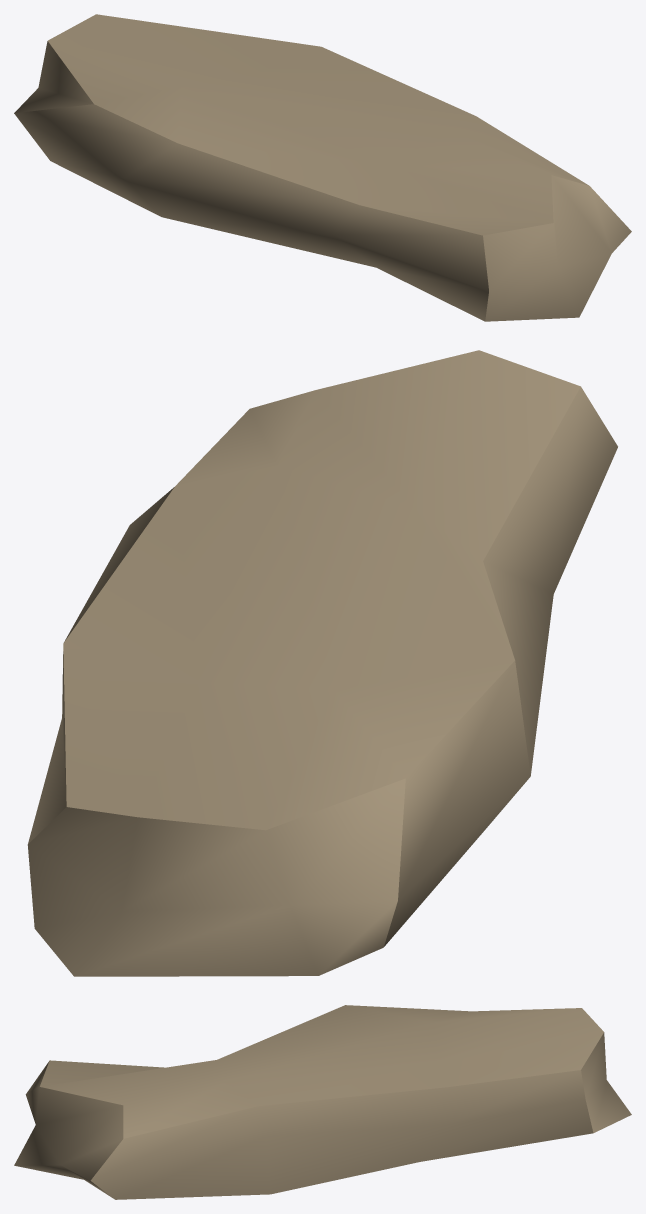
Rendered from tutorial_test_rock.fbx.
3 views of the same model, one above another, from view 1: azimuth 30°, elevation 25°; view 2: azimuth 150°, elevation 25°; view 3: azimuth 270°, elevation 25° (orthographic). The views are drawn at different scales.
Visible parts, largest first — view 1: rock_climb; view 2: rock_climb; view 3: rock_climb.
Boxes of the visible parts, x1=… form: rock_climb: x1=14, y1=14, x2=631, y2=321; rock_climb: x1=27, y1=350, x2=617, y2=976; rock_climb: x1=14, y1=1005, x2=631, y2=1199.
Size of the model in its own units: 27.3 by 7.24 by 47.94.
